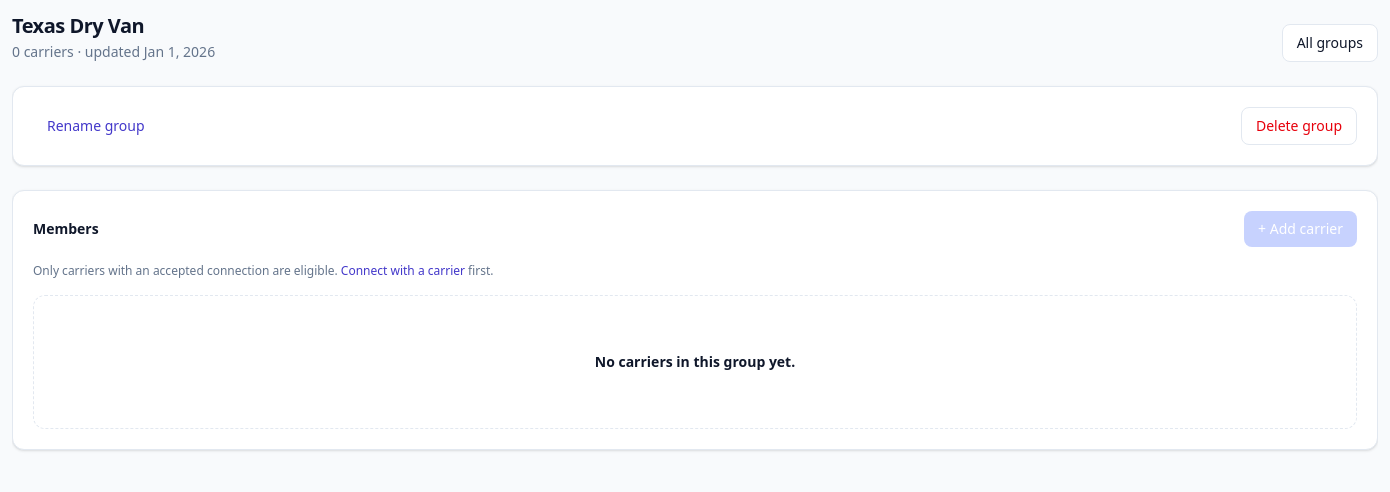
it: CarrierGroupDetail › renames the group
The image size is (1390, 492).
Click the button "Rename group".
click(96, 126)  # box top-left (33, 108), bottom-right (159, 144)
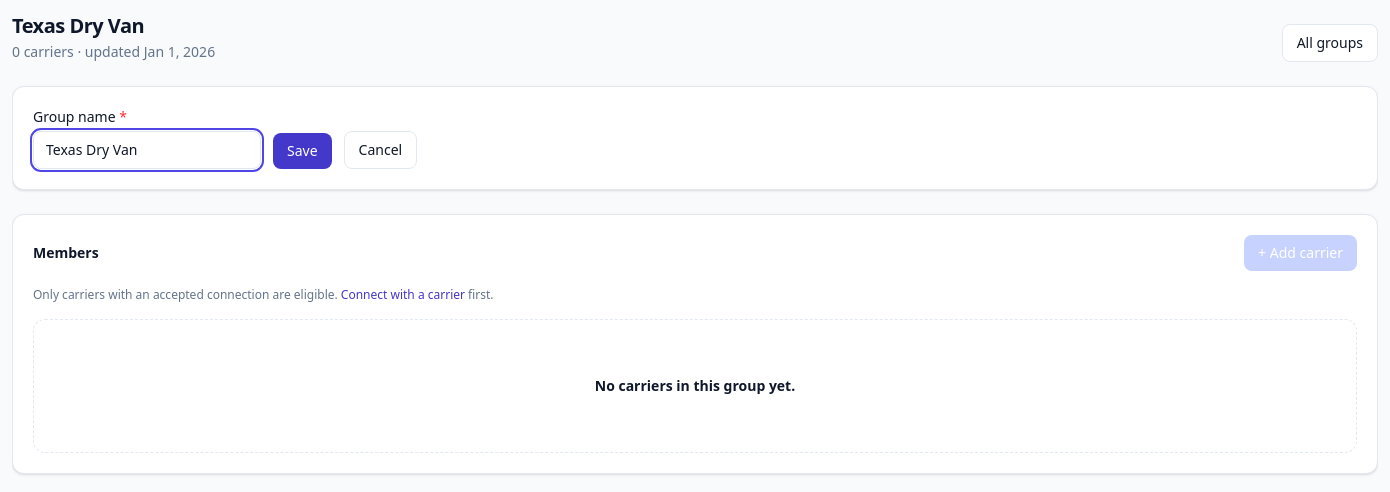
Replace the text in the field labelled "Group name *" with "Texas Reefer" at (147,150), box top-left (33, 131), bottom-right (261, 169)
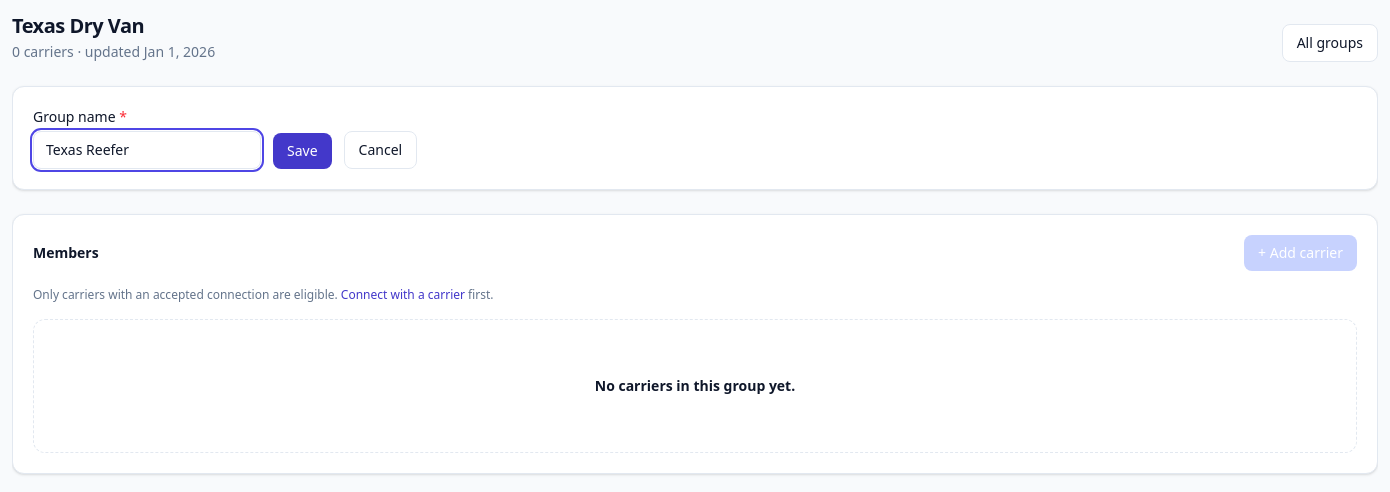
Click the button "Save".
click(302, 151)  # box top-left (273, 133), bottom-right (332, 169)
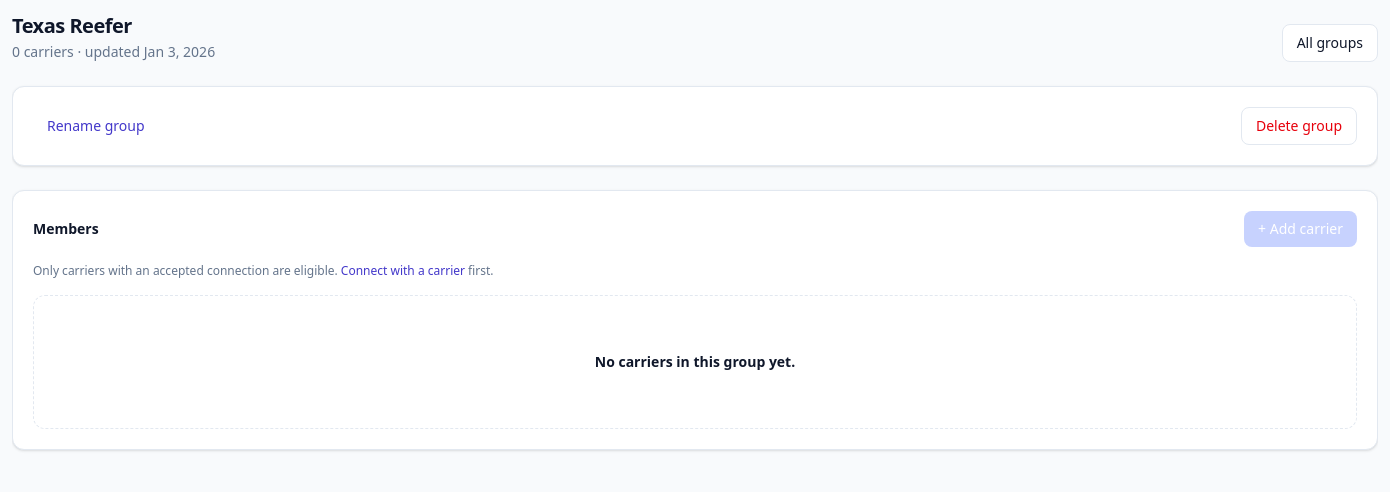
Expected: the heading "Texas Reefer" is shown, top-left (12, 12), bottom-right (132, 39)
